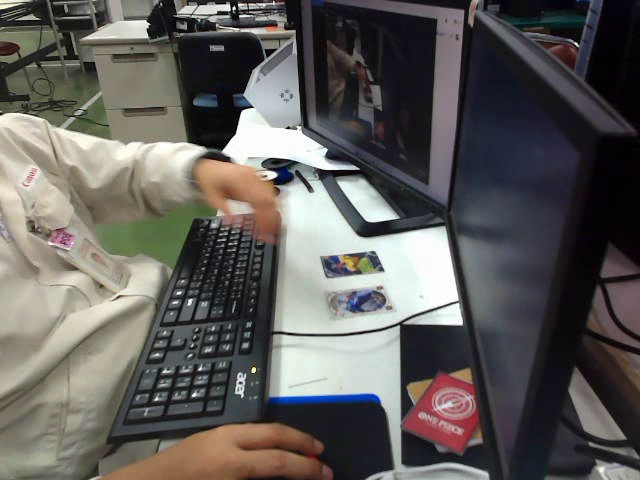can: (315, 277, 394, 318), (310, 243, 387, 276)
